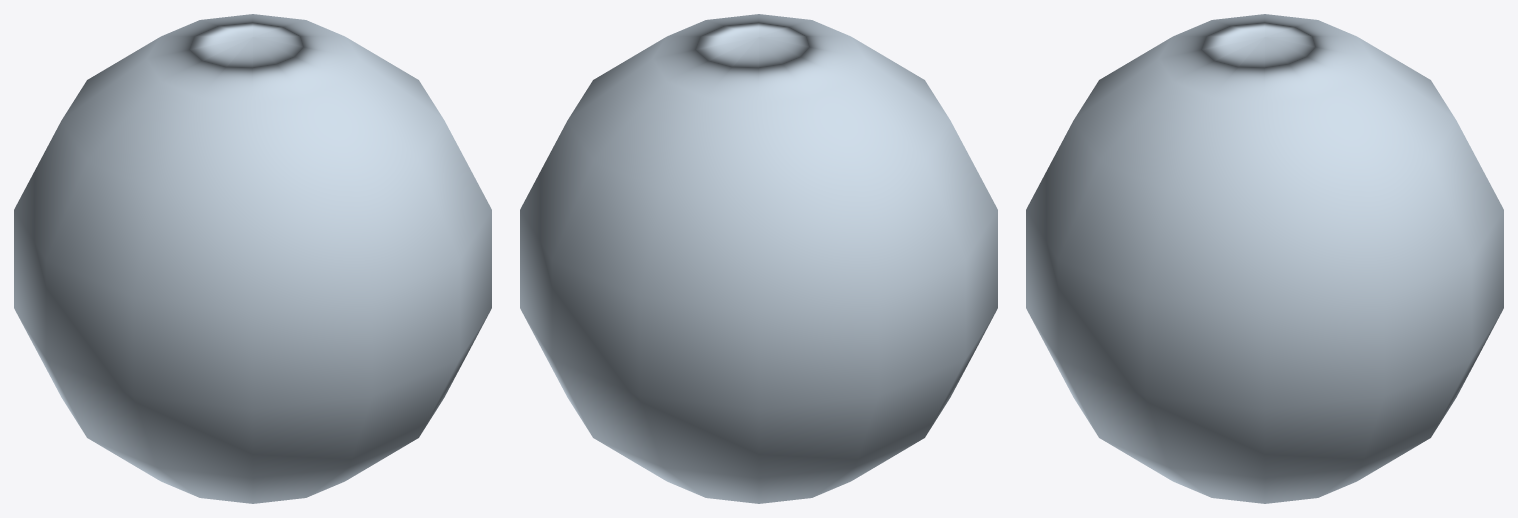
File: 2006_PyroSlimeThrow_Extinguished_SoftSlimeDroplet.fbx
3 renders of one model, left to right at view 1: azimuth 30°, elevation 25°; view 2: azimuth 150°, elevation 25°; view 3: azimuth 270°, elevation 25°, orthographic.
Parts seen in each view (by area): view 1: PART_ExtinguishedSlimeSoftDroplet; view 2: PART_ExtinguishedSlimeSoftDroplet; view 3: PART_ExtinguishedSlimeSoftDroplet.
Part boxes in pixels (x1,y1,x2,y2): PART_ExtinguishedSlimeSoftDroplet: (14,14,491,503); PART_ExtinguishedSlimeSoftDroplet: (520,14,997,503); PART_ExtinguishedSlimeSoftDroplet: (1026,14,1503,503).
Size of the model in its own units: 10.72 by 11 by 10.72.
